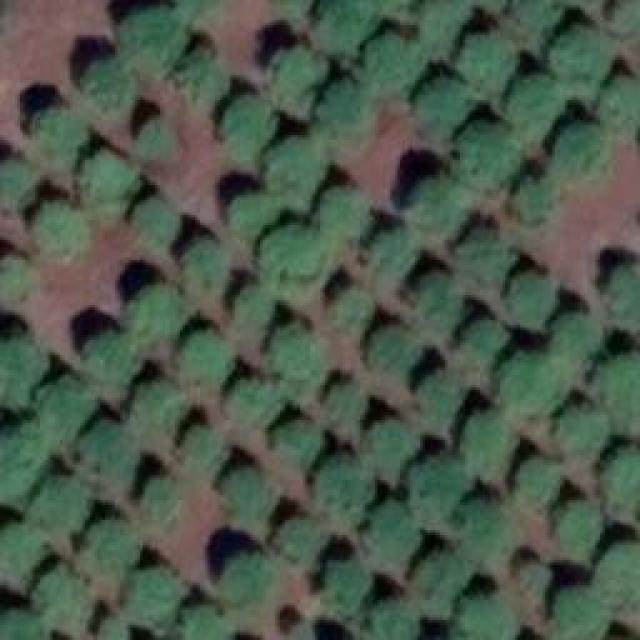Tree: (262, 222, 330, 290), (123, 10, 193, 75), (555, 122, 615, 190), (315, 82, 373, 150), (35, 380, 98, 440), (465, 125, 523, 188), (358, 507, 421, 565), (0, 335, 50, 408), (125, 568, 185, 628), (363, 35, 423, 95), (460, 495, 515, 560), (82, 515, 140, 575), (80, 150, 133, 215), (560, 22, 610, 90), (32, 202, 90, 260), (407, 182, 465, 240), (38, 570, 91, 633), (215, 560, 278, 613), (550, 403, 613, 456), (125, 285, 185, 340), (320, 0, 380, 55), (405, 555, 465, 610), (275, 40, 325, 105), (77, 423, 135, 478), (35, 477, 90, 535), (273, 325, 328, 383), (418, 77, 473, 135), (500, 360, 560, 413), (460, 413, 513, 473), (408, 463, 461, 523), (228, 98, 278, 161), (127, 378, 185, 431), (83, 57, 136, 115), (275, 135, 328, 193), (515, 75, 568, 133), (363, 417, 416, 475), (553, 497, 606, 555), (463, 30, 518, 85), (183, 328, 233, 388), (605, 445, 640, 525), (30, 105, 78, 163), (130, 197, 178, 255), (455, 592, 513, 640), (230, 185, 285, 235), (418, 0, 473, 50), (0, 427, 40, 495), (597, 549, 640, 612), (183, 53, 228, 113), (510, 268, 555, 328), (0, 524, 42, 587), (315, 465, 370, 513), (80, 338, 138, 383), (418, 270, 463, 328), (415, 368, 463, 421), (517, 453, 565, 506), (368, 323, 418, 373), (183, 238, 228, 293), (225, 378, 280, 423), (468, 228, 513, 283), (555, 318, 600, 373), (323, 560, 368, 615), (602, 73, 640, 136), (602, 265, 640, 328), (222, 465, 270, 513), (462, 317, 510, 365), (549, 597, 602, 640), (322, 188, 370, 233), (372, 233, 420, 278), (178, 425, 228, 468), (597, 360, 640, 410), (273, 523, 326, 563), (177, 605, 235, 640), (135, 115, 180, 160), (360, 607, 420, 640), (138, 475, 178, 523), (518, 175, 558, 223), (278, 418, 323, 458), (0, 155, 32, 210), (235, 285, 273, 330), (0, 258, 35, 303), (325, 380, 363, 420), (338, 285, 378, 323), (512, 558, 550, 598), (0, 612, 45, 640), (522, 0, 560, 28), (615, 0, 640, 35), (95, 617, 132, 640), (288, 625, 313, 640)
